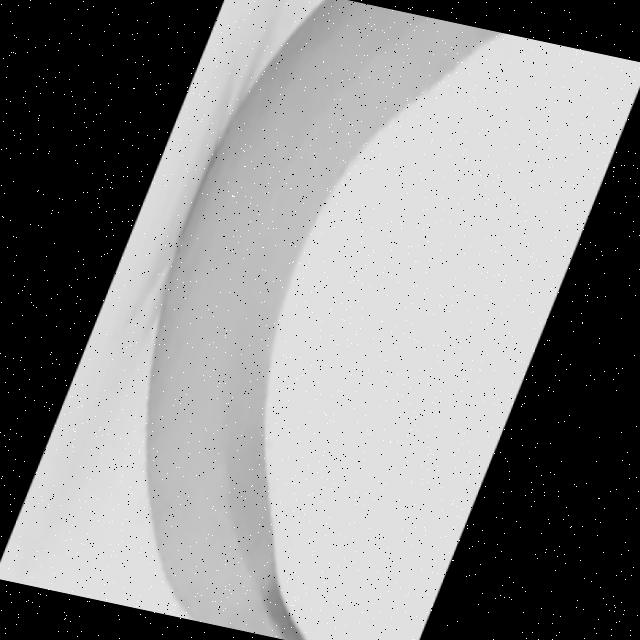banana: (93, 0, 502, 640)
